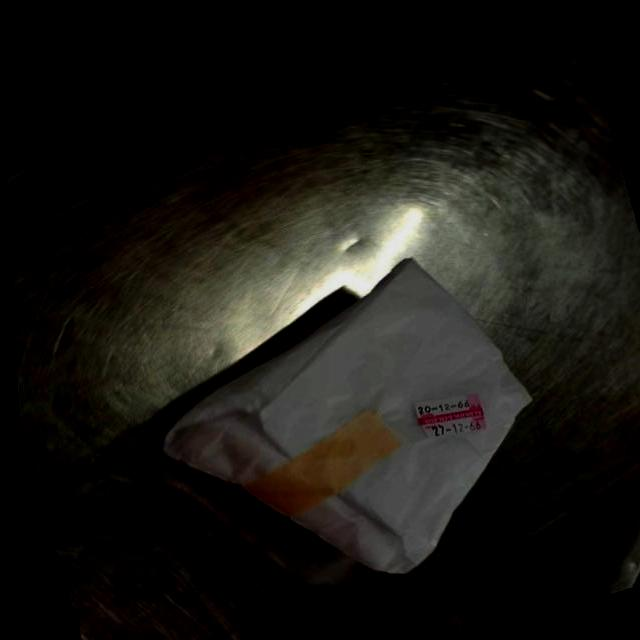General: (160, 254, 534, 576)
Sharps: (413, 392, 488, 439)
